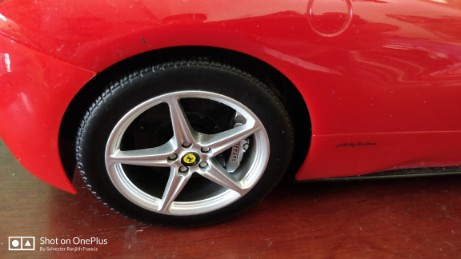aligned_wheel: (73, 50, 296, 229)
